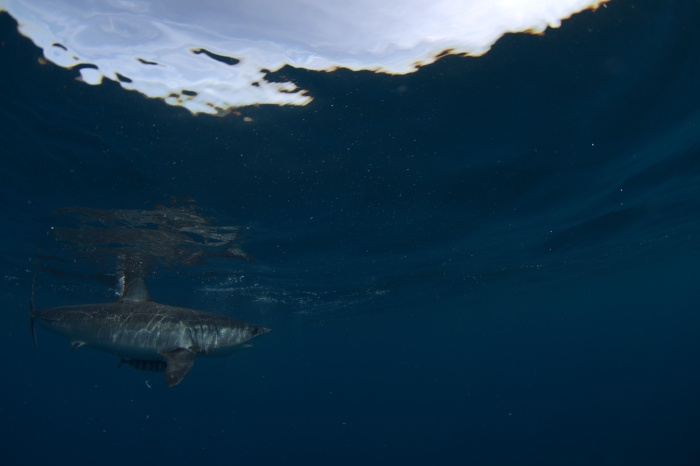Mako: (19, 264, 278, 400)
